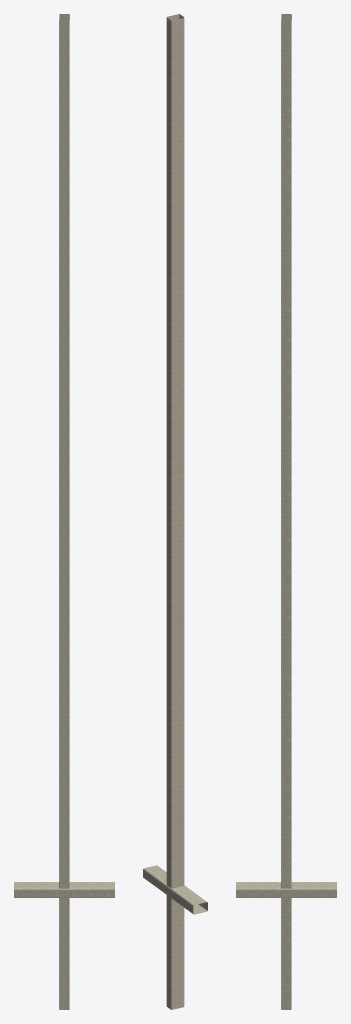
The model's file is ArchBase24m.FBX.
3 views of the same model, side by side, from view 1: azimuth 90°, elevation 25°; view 2: azimuth 210°, elevation 25°; view 3: azimuth 270°, elevation 25° (orthographic).
Parts seen in each view (by area): view 1: ArchBase24m; view 2: ArchBase24m; view 3: ArchBase24m.
Boxes of the visible parts, x1,y1,x2,y2 form: ArchBase24m: (14,14,114,1009); ArchBase24m: (143,14,207,1009); ArchBase24m: (236,14,336,1009).
Size of the model in its own units: 4 by 260 by 24.
